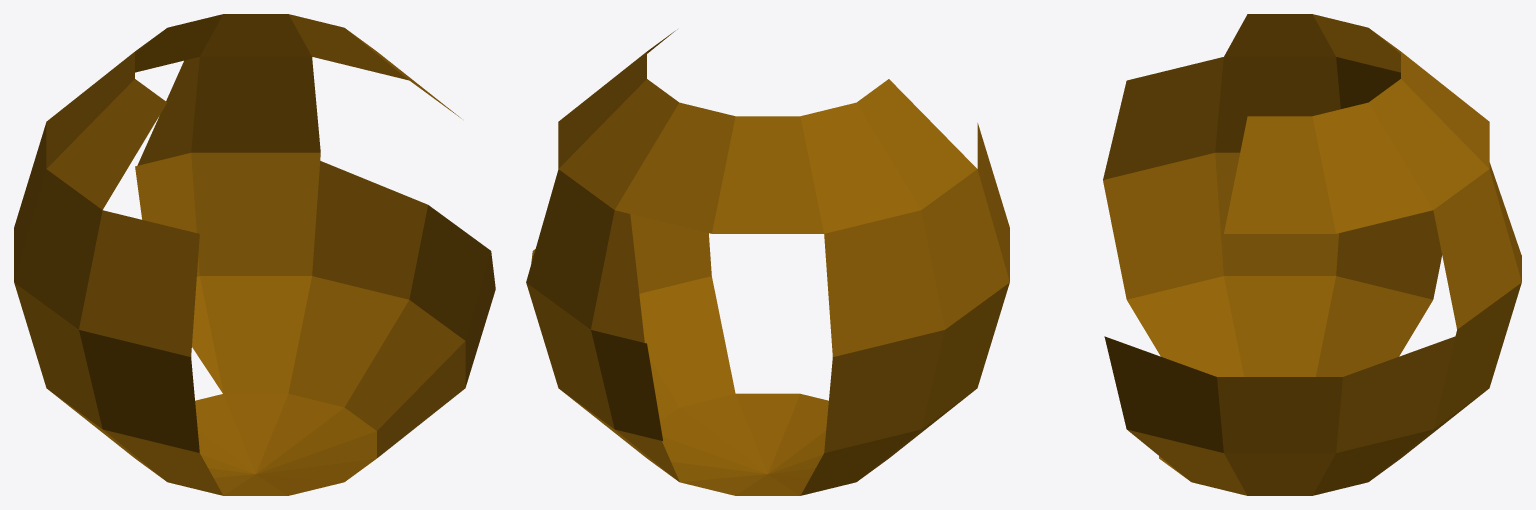
File: potato0.obj
3 renders of one model, left to right at view 1: azimuth 30°, elevation 25°; view 2: azimuth 150°, elevation 25°; view 3: azimuth 270°, elevation 25°, orthographic.
Visible parts, largest first — view 1: sphere; view 2: sphere; view 3: sphere.
Boxes of the visible parts, <box> form: sphere: <box>14,14,495,495</box>; sphere: <box>526,29,1009,495</box>; sphere: <box>1103,14,1521,495</box>.
Size of the model in its own units: 0.125 by 0.125 by 0.125.
